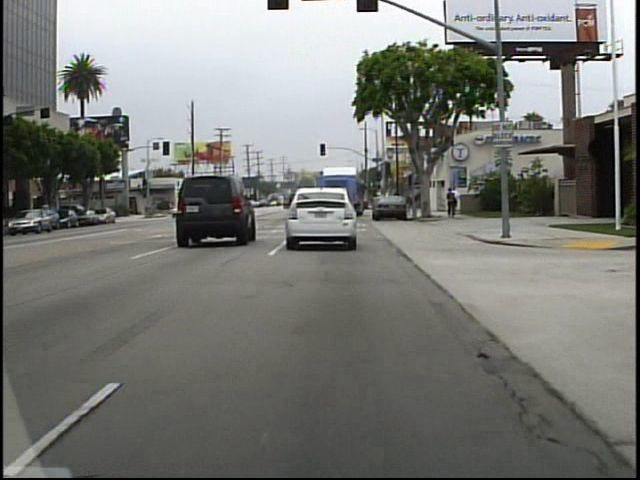person: (444, 186, 458, 221), (452, 185, 462, 217)
